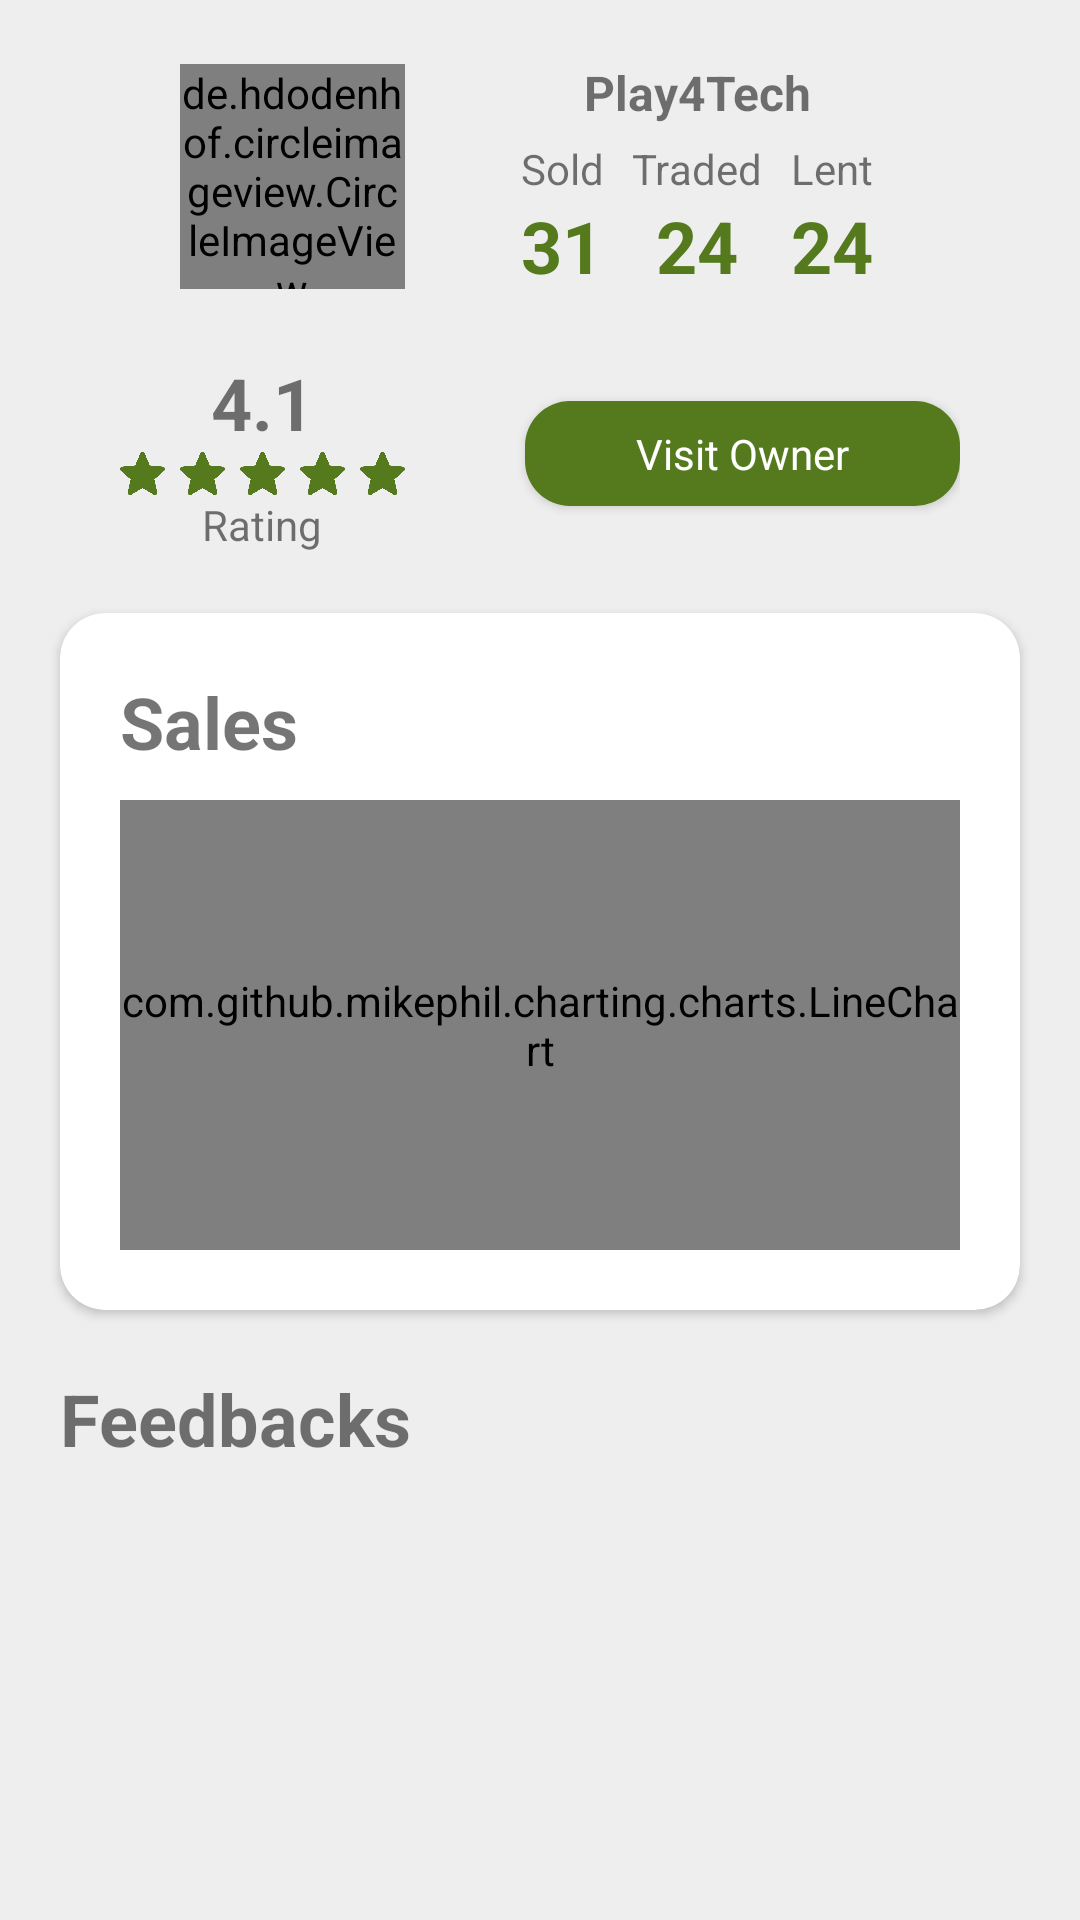

Where to tap for icons on this 1080*1920 app screen, as (x=x, y=y):
star: (x=142, y=473), (x=202, y=473), (x=262, y=473), (x=322, y=473), (x=382, y=473)
